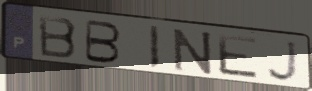B: (36, 13, 79, 61), (82, 18, 124, 66)
E: (215, 32, 261, 81)
I: (147, 24, 161, 72)
J: (266, 39, 301, 84)
N: (171, 27, 215, 76)
